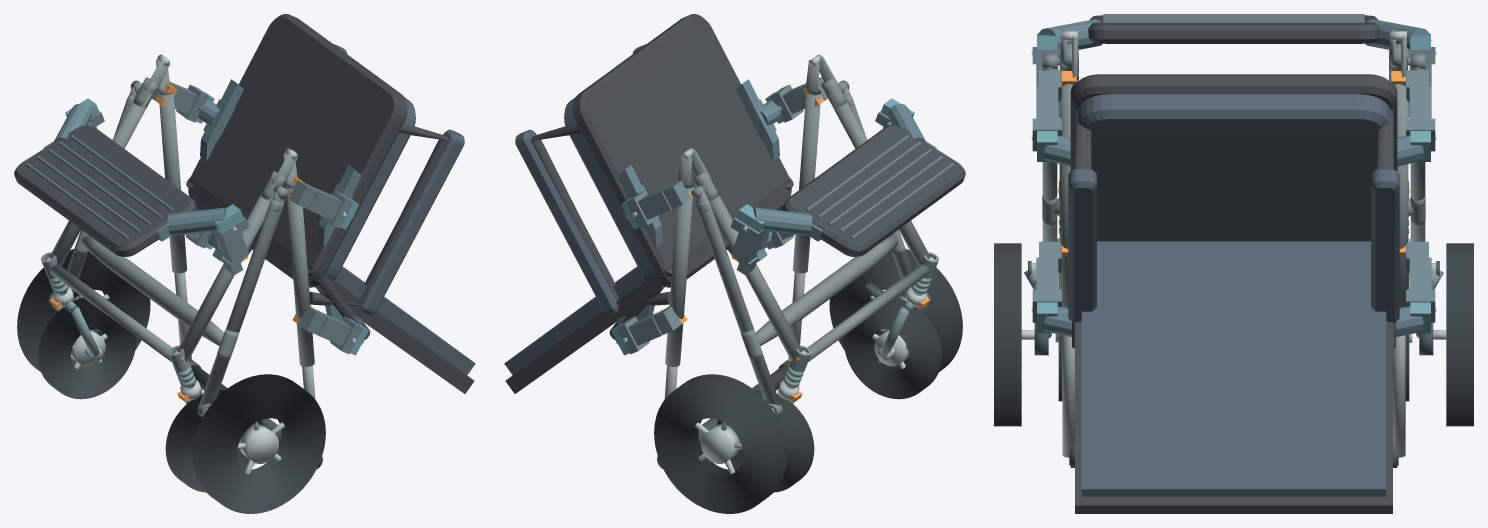
The model's file is S09_w650_state3_wheel_M.glb.
The picture shows the model from 3 angles, left to right: view 1: azimuth 30°, elevation 25°; view 2: azimuth 150°, elevation 25°; view 3: azimuth 270°, elevation 25°; orthographic projection. The views are drawn at different scales.
Parts seen in each view (by area): view 1: S09_Cabin, S09_Cabin_Footrest, RL_tire.008, FR_tire.008, RR_tire.008, V46_rearbar.009, V46_rear_leg_-1.009, S09_Cabin_Footrest_LowDocks, main_upper_-1.009, FL_tire.008, main_lower_-1.009, main_upper_1.009 (+11 smaller); view 2: S09_Cabin, S09_Cabin_Footrest, RR_tire.008, FL_tire.008, RL_tire.008, V46_rearbar.009, V46_rear_leg_1.009, S09_Cabin_Footrest_LowDocks, main_upper_1.009, FR_tire.008, main_lower_1.009, main_upper_-1.009 (+11 smaller); view 3: S09_Cabin, S09_Cabin_Footrest, RL_tire.008, RR_tire.008, S09_Cabin_Footrest_LowDocks, S09_Cabin_HighDocks, S09_Cabin_Mount_M, main_upper_1.009, main_upper_-1.009, Universal_Cabin_Receiver_H_1, Universal_Cabin_Receiver_H_-1, Universal_Cabin_Receiver_M_-1 (+5 smaller).
Boxes of the visible parts, x1,y1,x2,y2 form: S09_Cabin: [186, 14, 475, 393]; S09_Cabin_Footrest: [14, 125, 197, 256]; RL_tire.008: [192, 374, 325, 513]; FR_tire.008: [38, 297, 136, 399]; RR_tire.008: [17, 249, 150, 371]; V46_rearbar.009: [81, 235, 224, 345]; V46_rear_leg_-1.009: [199, 199, 284, 405]; S09_Cabin_Footrest_LowDocks: [43, 98, 243, 241]; main_upper_-1.009: [286, 186, 314, 366]; FL_tire.008: [165, 390, 262, 492]; main_lower_-1.009: [177, 193, 273, 361]; main_upper_1.009: [158, 93, 187, 273]; S09_Cabin: [504, 14, 793, 393]; S09_Cabin_Footrest: [782, 125, 965, 256]; RR_tire.008: [654, 374, 787, 513]; FL_tire.008: [843, 297, 941, 399]; RL_tire.008: [829, 249, 962, 371]; V46_rearbar.009: [755, 235, 898, 345]; V46_rear_leg_1.009: [695, 199, 780, 405]; S09_Cabin_Footrest_LowDocks: [736, 98, 936, 241]; main_upper_1.009: [665, 186, 693, 366]; FR_tire.008: [717, 390, 814, 492]; main_lower_1.009: [706, 193, 802, 361]; main_upper_-1.009: [792, 93, 821, 273]; S09_Cabin: [1068, 74, 1399, 513]; S09_Cabin_Footrest: [1088, 14, 1379, 43]; RL_tire.008: [994, 243, 1021, 426]; RR_tire.008: [1446, 243, 1473, 426]; S09_Cabin_Footrest_LowDocks: [1031, 19, 1436, 54]; S09_Cabin_HighDocks: [1031, 302, 1436, 336]; S09_Cabin_Mount_M: [1031, 131, 1436, 166]; main_upper_1.009: [1389, 79, 1408, 307]; main_upper_-1.009: [1059, 79, 1078, 307]; Universal_Cabin_Receiver_H_1: [1406, 241, 1435, 322]; Universal_Cabin_Receiver_H_-1: [1032, 241, 1061, 322]; Universal_Cabin_Receiver_M_-1: [1032, 70, 1061, 151].
Size of the model in its own units: 0.8592 by 0.8142 by 0.7871.
